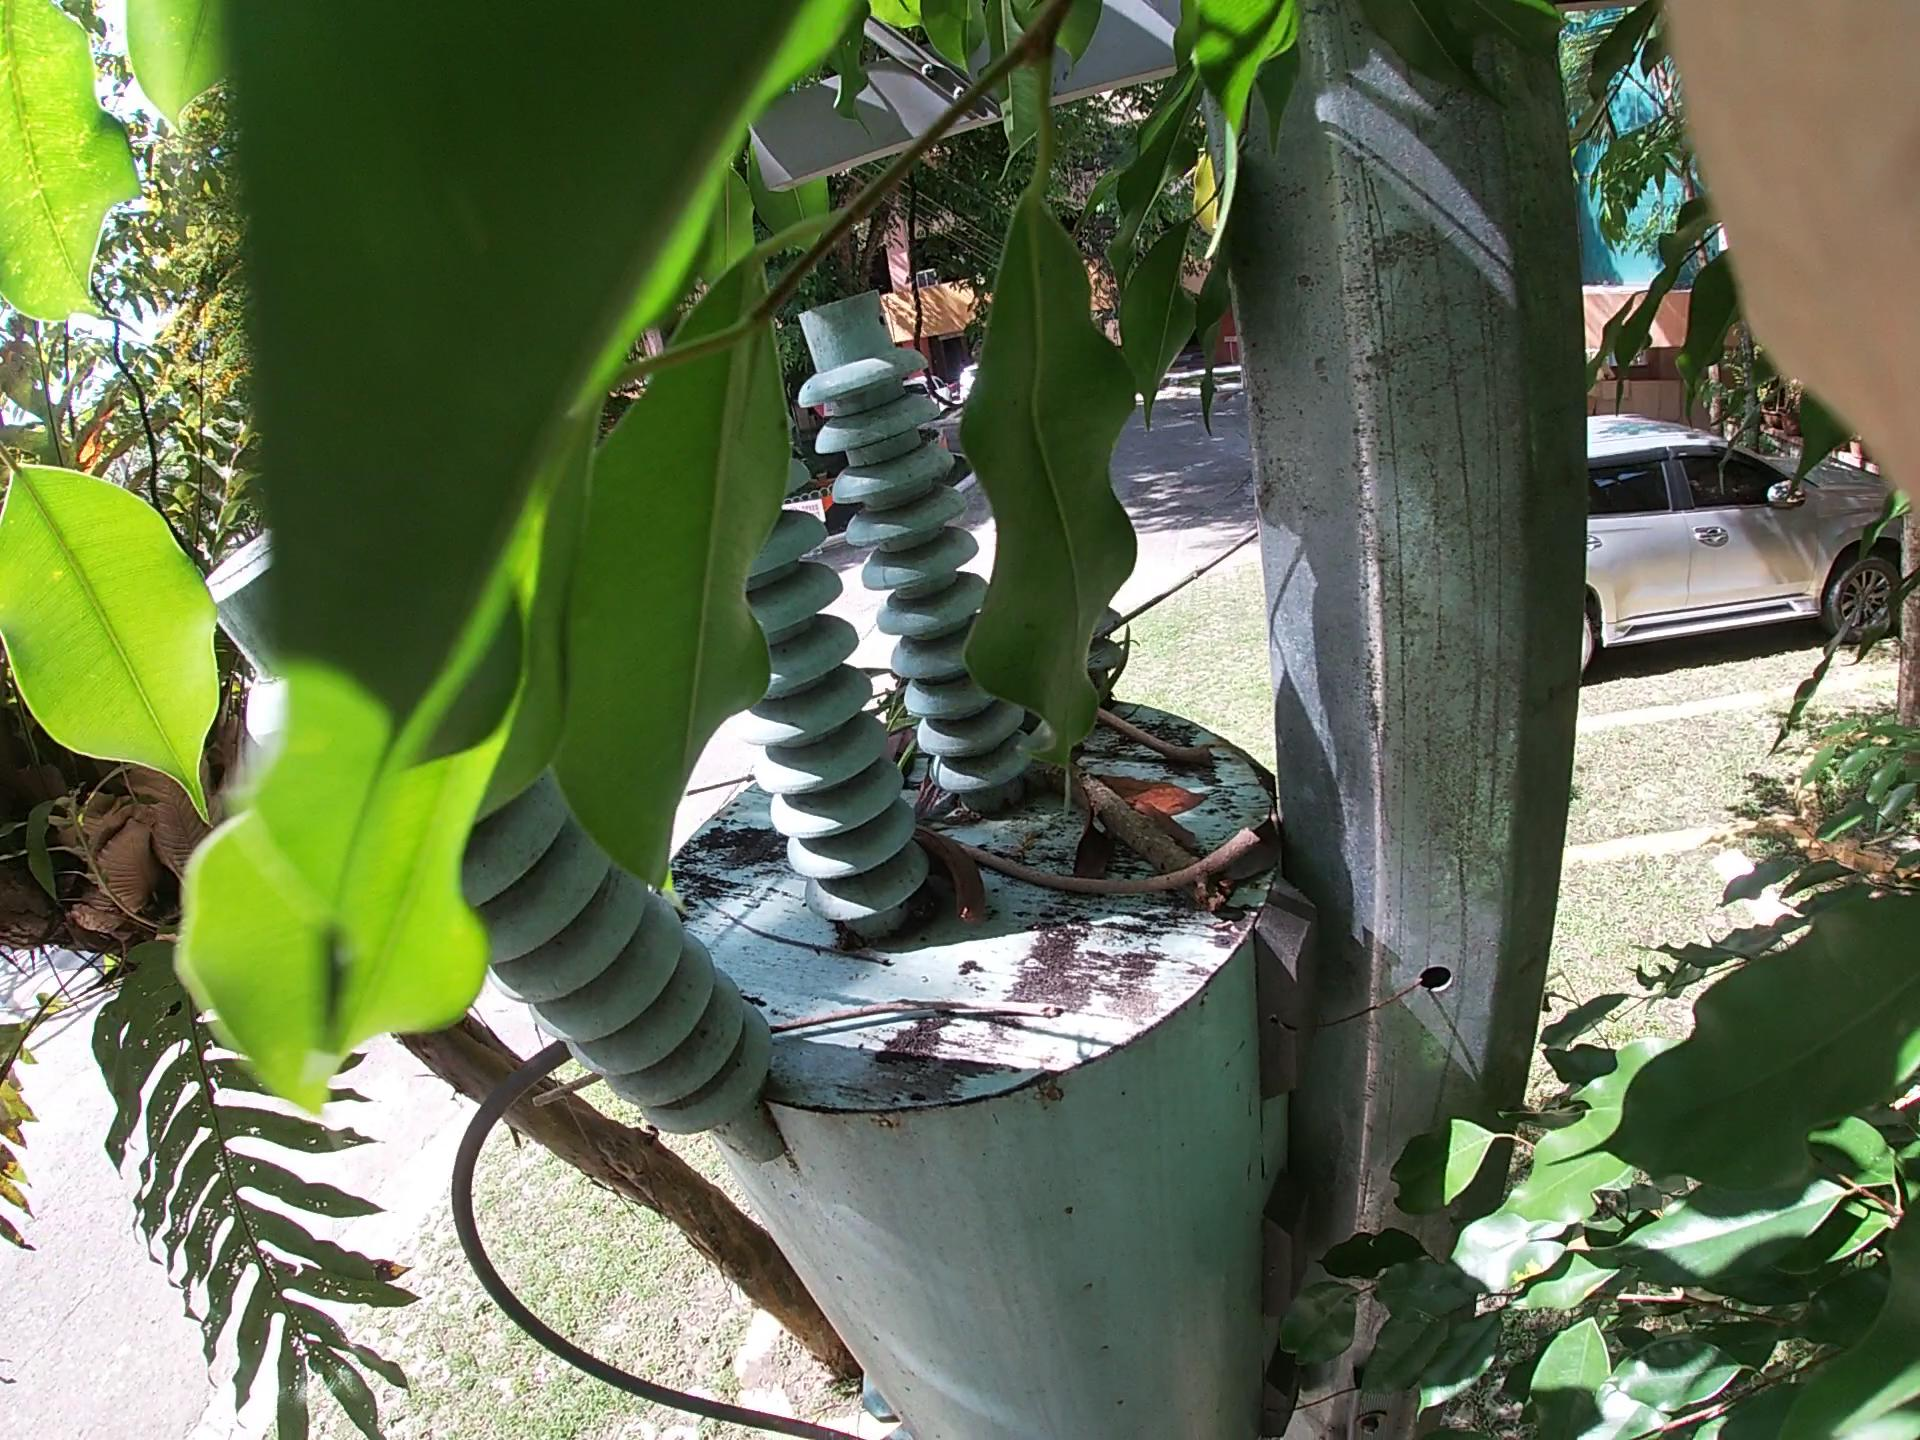leaf: (1052, 744, 1223, 933)
tree branch: (588, 486, 1324, 797), (590, 985, 1144, 1116), (931, 797, 1302, 939), (1017, 650, 1249, 817)
